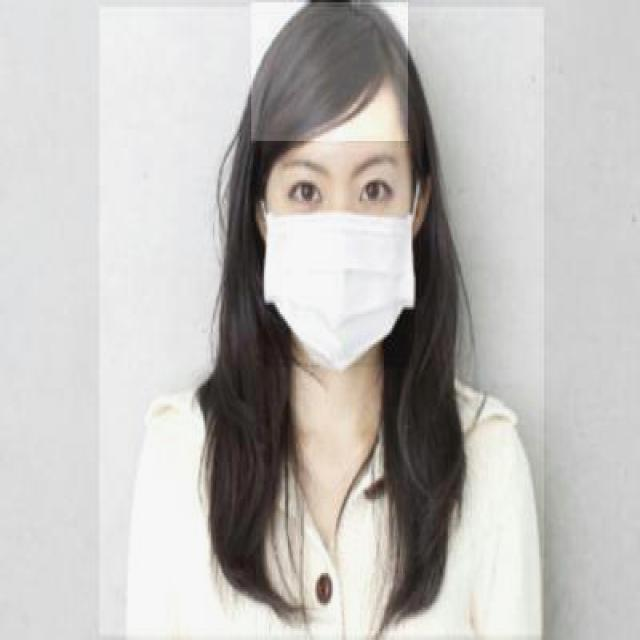face_mask: (264, 152, 414, 368)
head_nohelmet: (251, 2, 410, 144)
person: (99, 7, 546, 638)
